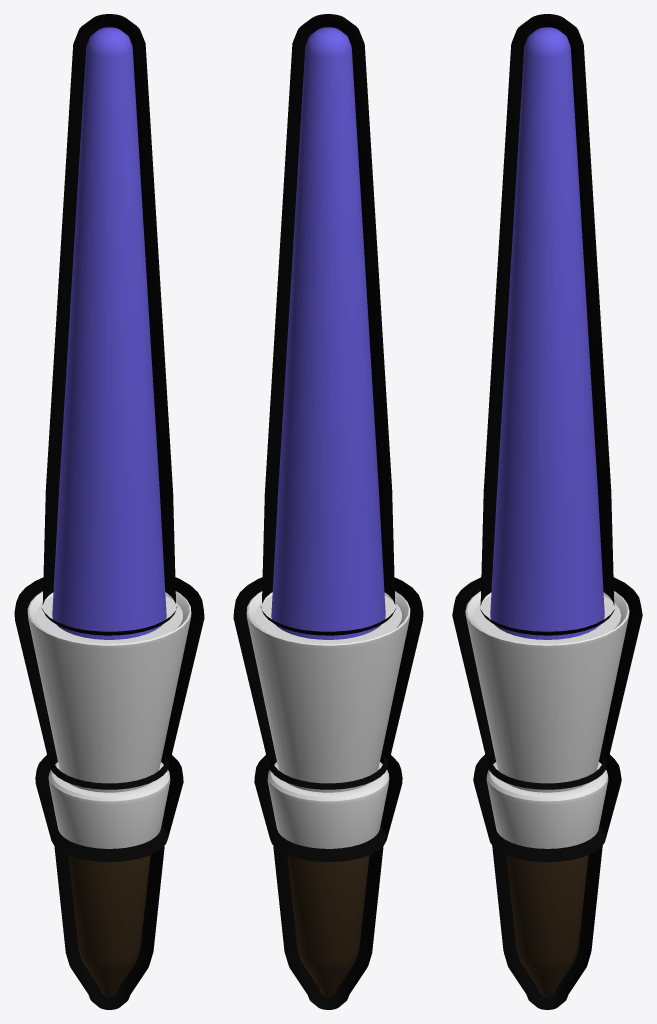
The model's file is Brush_added_outline_fixscale.glb.
The picture shows the model from 3 angles, left to right: view 1: azimuth 30°, elevation 25°; view 2: azimuth 150°, elevation 25°; view 3: azimuth 270°, elevation 25°; orthographic projection.
Visible parts, largest first — view 1: Cylinder; view 2: Cylinder; view 3: Cylinder.
Part boxes in pixels (x1,y1,x2,y2): Cylinder: (14, 14, 204, 1009); Cylinder: (233, 14, 423, 1009); Cylinder: (452, 14, 642, 1009).
Size of the model in its own units: 2.74 by 15.71 by 2.74.
